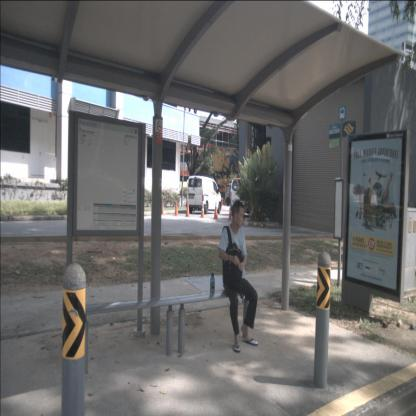human-pedestrian-adult: (217, 199, 259, 353)
movable_object-trafficcone: (213, 201, 219, 221), (200, 200, 206, 218), (174, 199, 179, 217), (185, 200, 190, 218), (160, 198, 165, 216), (227, 204, 232, 221), (220, 196, 224, 206)
vehicle-car: (185, 175, 222, 215), (230, 177, 261, 217)
vehicle-truck: (225, 183, 255, 206)
